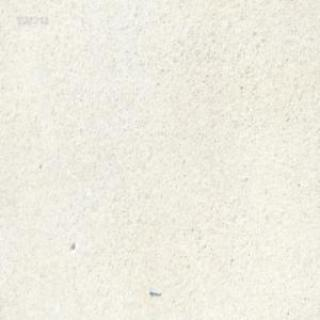Nailtrack_idkeyframe: (148, 288, 160, 296)
